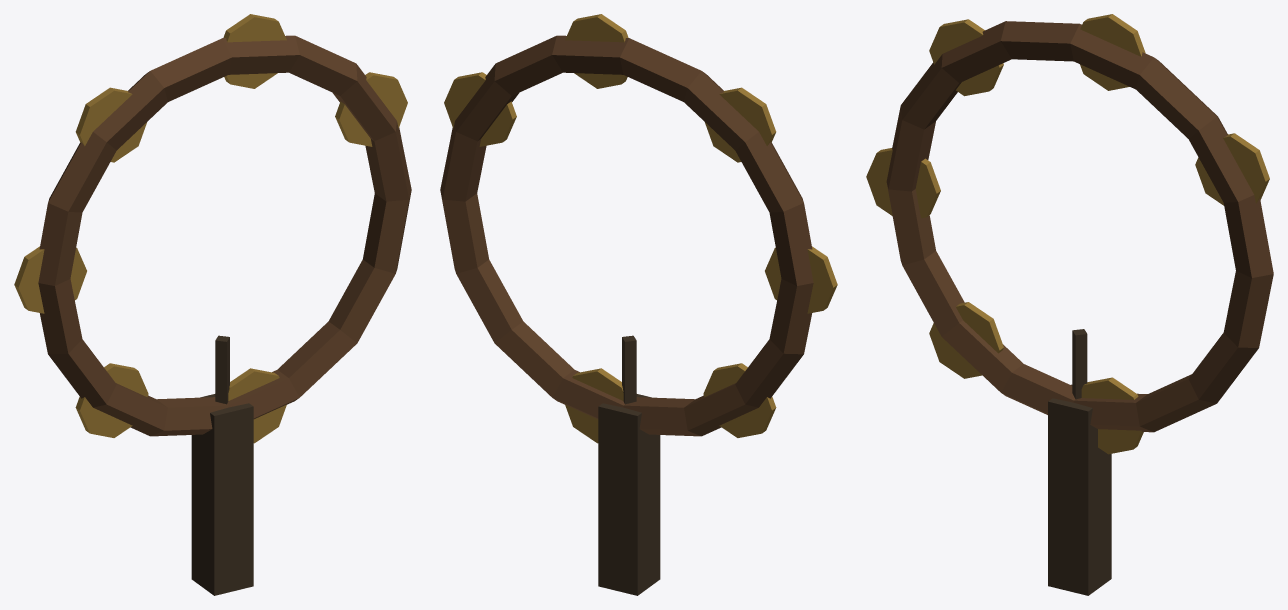
The model's file is traz.glb.
3 renders of one model, left to right at view 1: azimuth 30°, elevation 25°; view 2: azimuth 150°, elevation 25°; view 3: azimuth 330°, elevation 25°, orthographic. The views are drawn at different scales.
Parts seen in each view (by area): view 1: m; view 2: m; view 3: m.
Part boxes in pixels (x1,y1,x2,y2): m: (14, 14, 411, 595); m: (440, 14, 837, 595); m: (866, 14, 1273, 595).
Size of the model in its own units: 0.1625 by 0.22 by 0.0161.
